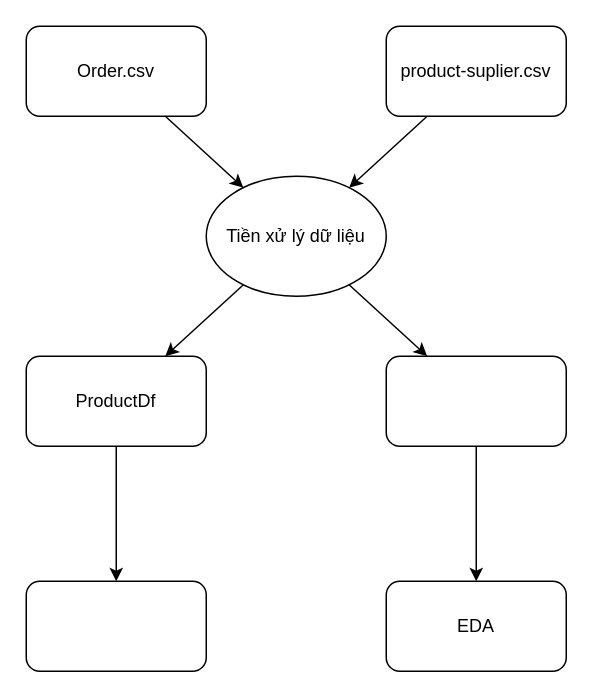
The diagram is 593 pixels wide and 698 high, and some of its shapes have lost their labels. Here are the shapes that lost their labels. From the top down, the box of each, then its label:
(385, 355, 566, 446): OrderDf
(25, 580, 206, 671): LNR, SVR, EDA
